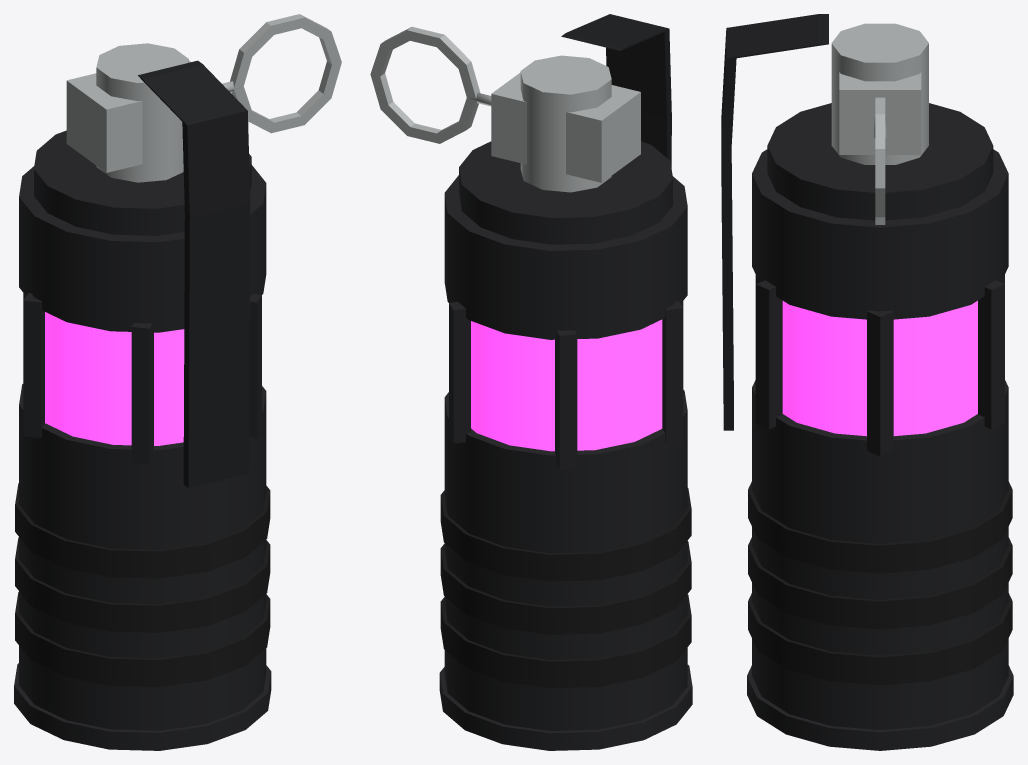
Rendered from uv-flare.glb.
The picture shows the model from 3 angles, left to right: view 1: azimuth 30°, elevation 25°; view 2: azimuth 150°, elevation 25°; view 3: azimuth 270°, elevation 25°; orthographic projection. The views are drawn at different scales.
Parts seen in each view (by area): view 1: uv-flare; view 2: uv-flare; view 3: uv-flare.
Boxes of the visible parts, x1=… form: uv-flare: x1=14, y1=14, x2=341, y2=750; uv-flare: x1=370, y1=14, x2=692, y2=750; uv-flare: x1=721, y1=14, x2=1013, y2=750.
Bounding box in the file's own units: 0.0731 × 0.143 × 0.057.
1 material, 1 textured.
